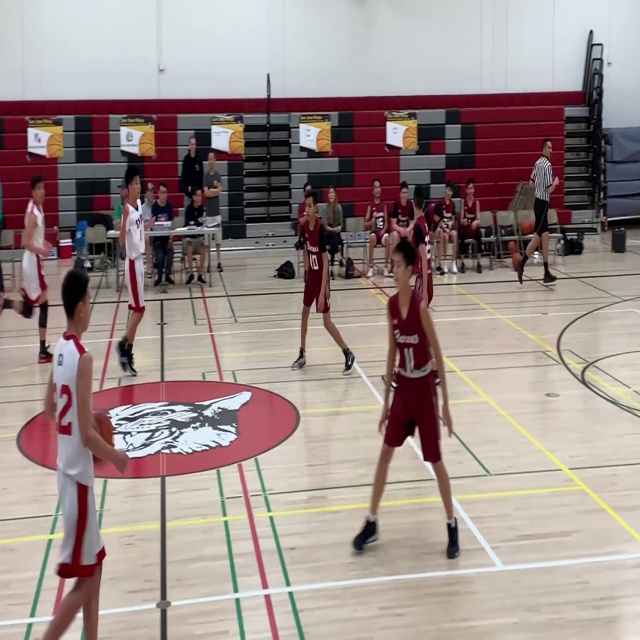Basketball: (90, 411, 114, 461)
